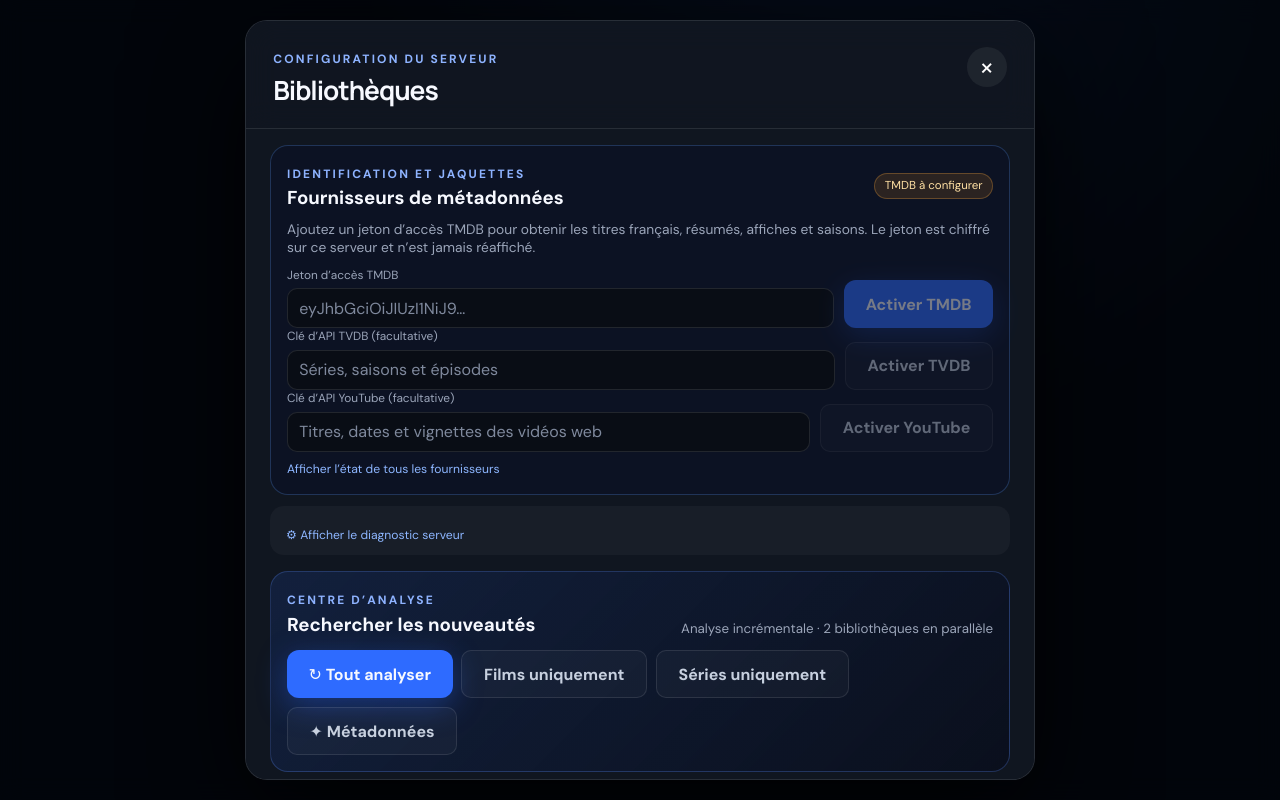
Scenario: centre d'analyse et bibliothèques › affiche le diagnostic et crée une sauvegarde
What coordinates should you click on to do the following:
click the button "⚙ Afficher le diagnostic serveur"
I would click on:
 (375, 535)
Its box is [286,527,464,543].
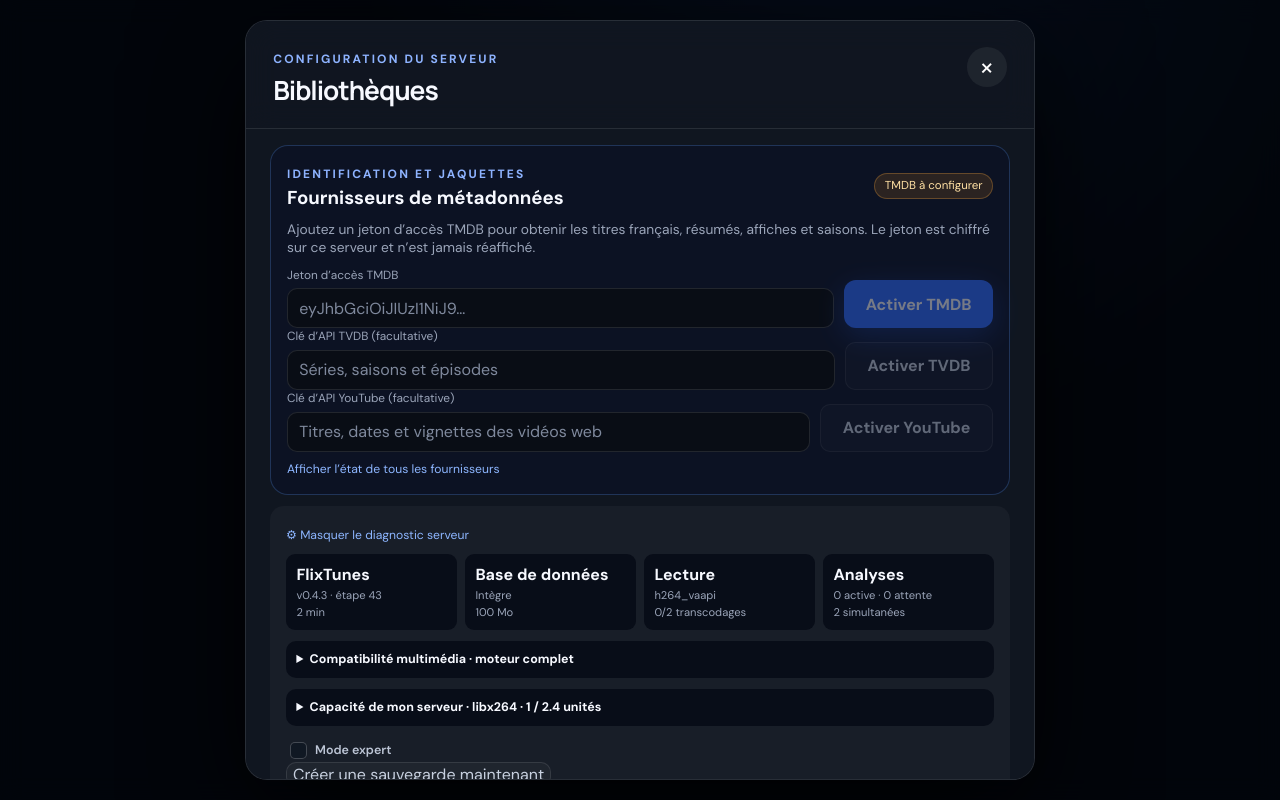
Now the text "h264_vaapi" is shown, box [654,588,716,602]
Now the heading "Compatibilité multimédia · moteur complet" is shown, box [310,651,574,667]
What coordinates should you click on to do the following:
click the button "Créer une sauvegarde maintenant"
I would click on:
 (419, 774)
Its box is [286,762,551,787].
(page scrolled)
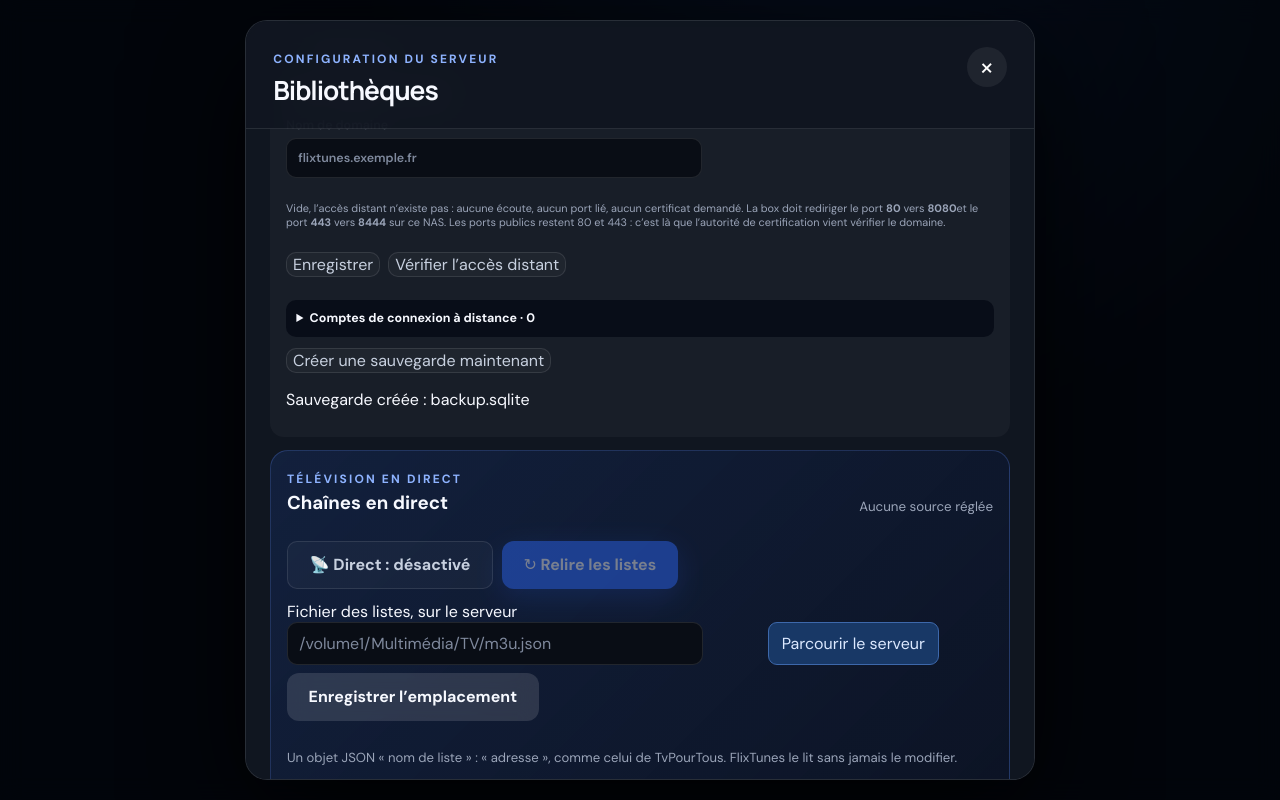
Now the text "Sauvegarde créée : backup.sqlite" is shown, box [286,389,530,410]
